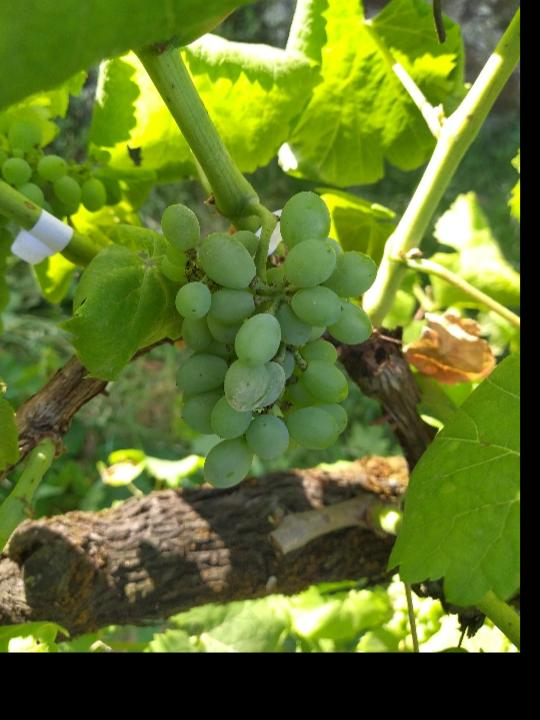grape: (157, 191, 380, 494)
